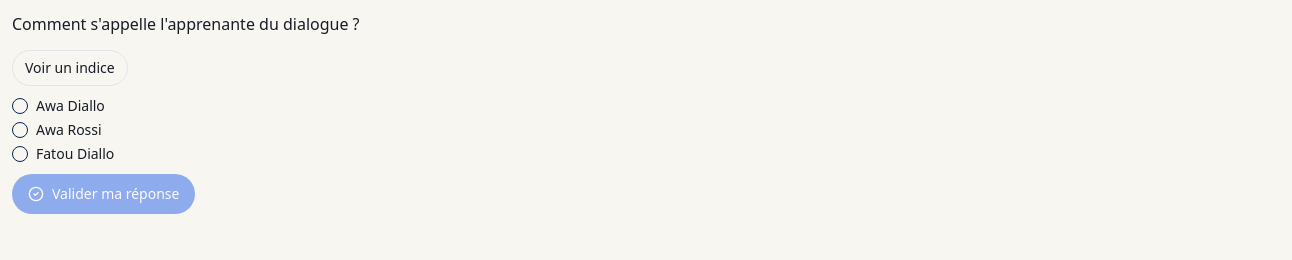
Test: ExerciseItemForm — indice sur demande et banque de mots (Lot 2.1, point 2) › cliquer sur le bouton révèle l'indice réel et déclenche onRevealHint (traçage de l'usage)
The image size is (1292, 260).
Click the button "Voir un indice" at (70, 68), box [12,50,128,86]
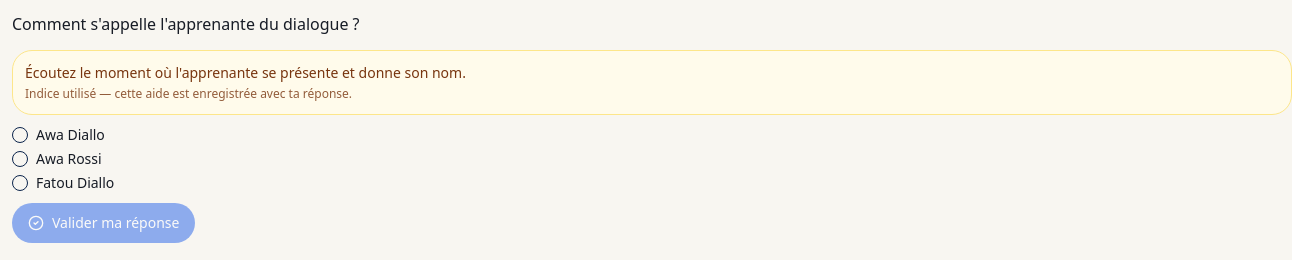
Now the text "Écoutez le moment où l'apprenante se présente et donne son nom." is shown, box [25,63,466,82]
Now the text "enregistrée" is shown, box [25,85,352,102]
